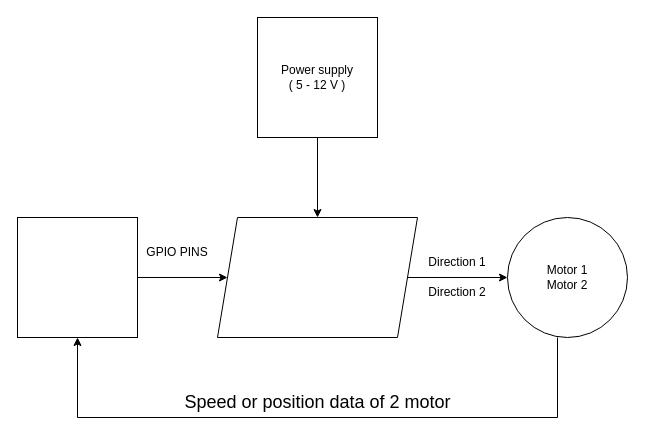
This 645x443 diagram has some shape labels left out. Each missing label, with the box of its shape:
Micro-controller: (16, 216, 138, 338)
Motor driver IC ( L298, L293N ): (216, 216, 418, 338)
